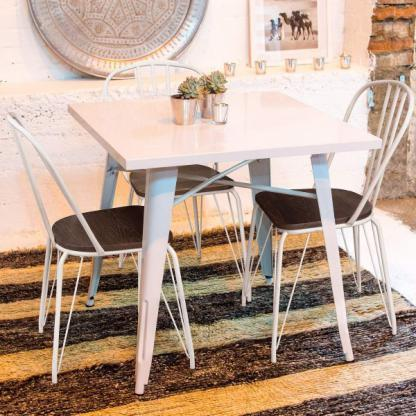chair: (7, 103, 193, 387), (246, 75, 416, 367), (109, 61, 255, 300)
table: (64, 88, 393, 397)
